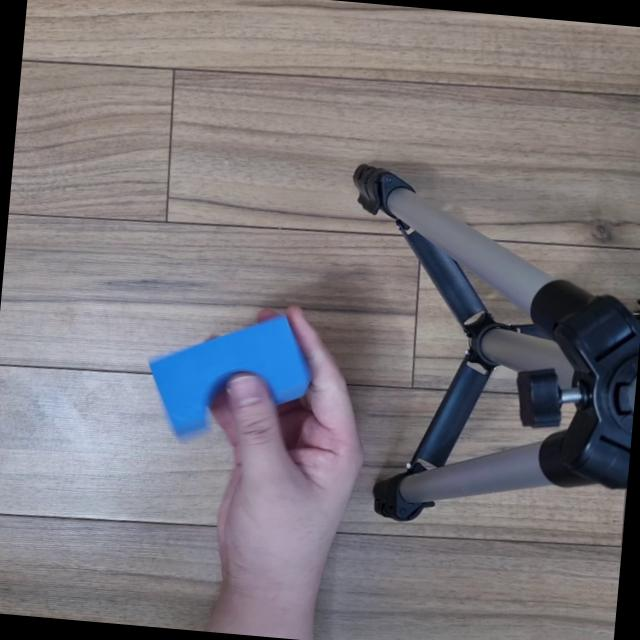block: (128, 296, 310, 434)
hand: (190, 288, 386, 574)
